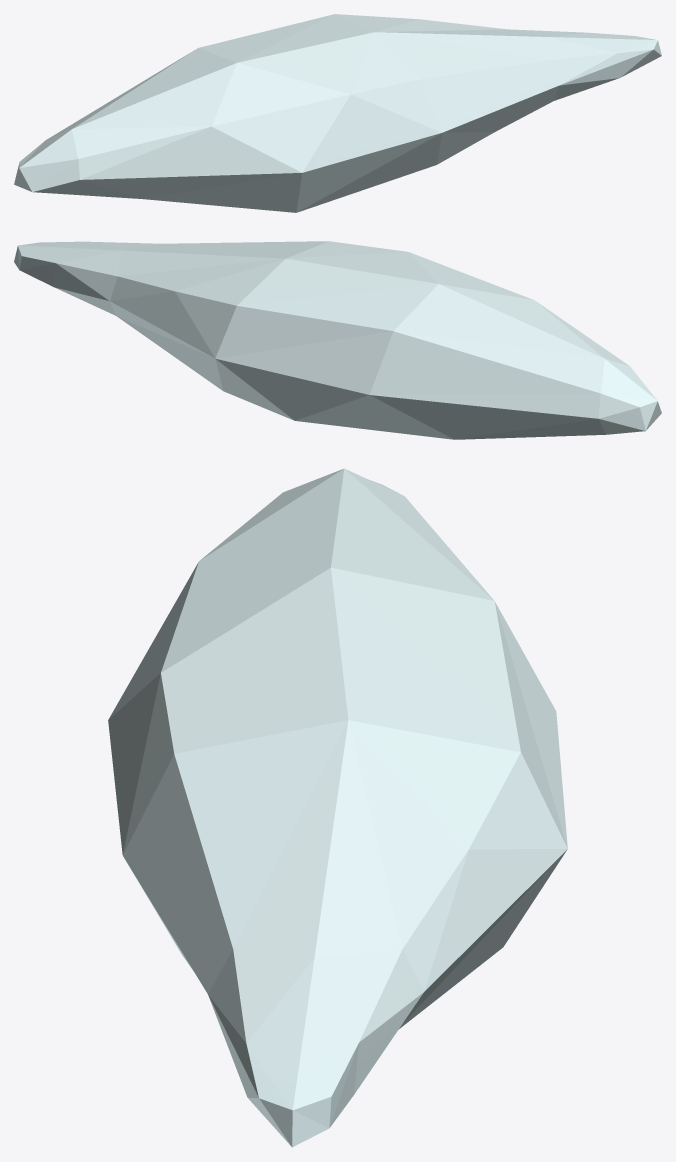
Rendered from Jungle_Clouds_Sml_B.fbx.
3 renders of one model, top to bottom at view 1: azimuth 30°, elevation 25°; view 2: azimuth 150°, elevation 25°; view 3: azimuth 270°, elevation 25°, orthographic. The views are drawn at different scales.
Parts seen in each view (by area): view 1: Jungle_Clouds_Sml_B; view 2: Jungle_Clouds_Sml_B; view 3: Jungle_Clouds_Sml_B.
Boxes of the visible parts, <box> form: Jungle_Clouds_Sml_B: <box>14,14,661,212</box>; Jungle_Clouds_Sml_B: <box>14,241,661,439</box>; Jungle_Clouds_Sml_B: <box>108,468,567,1147</box>.
Size of the model in its own units: 436 by 91.8 by 138.
